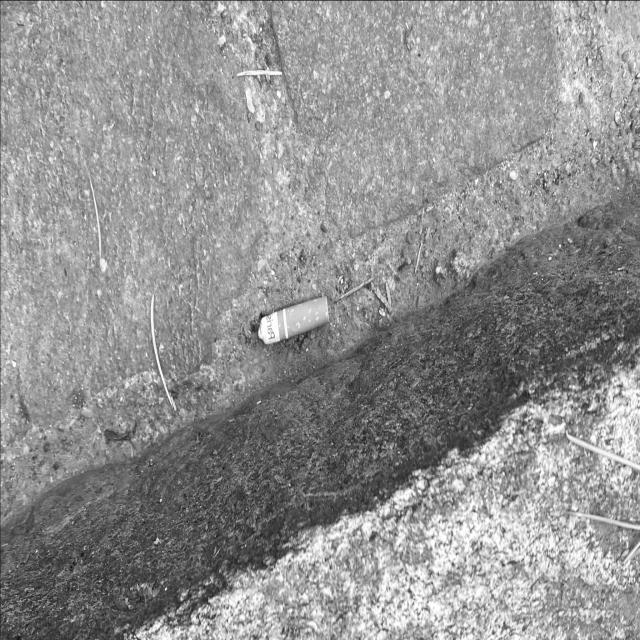other waste: (258, 294, 330, 344)
